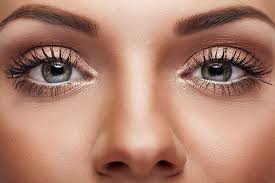pupil: (42, 60, 71, 84), (200, 59, 231, 81)
